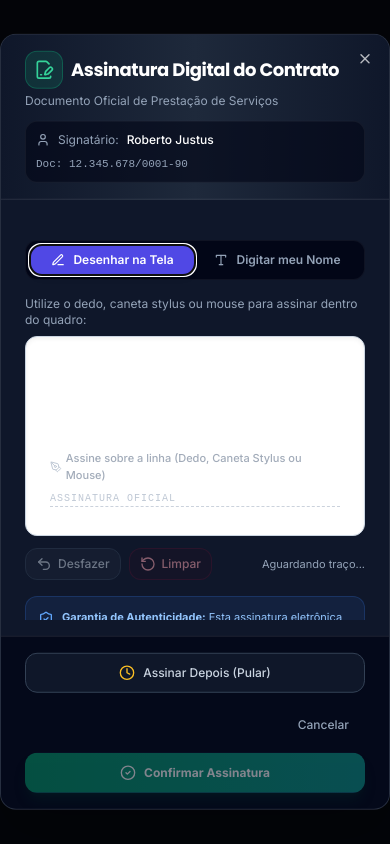
Test: GATE 2-D — Testes de Captura de Assinatura Digital › 3. SignatureCaptureModal (Modal e Regras de Negócio) › 3.2. Alterna entre abas "Desenhar na Tela" e "Digitar meu Nome"
Click the tab "Digitar meu Nome": (278, 260) [195, 245, 360, 275]
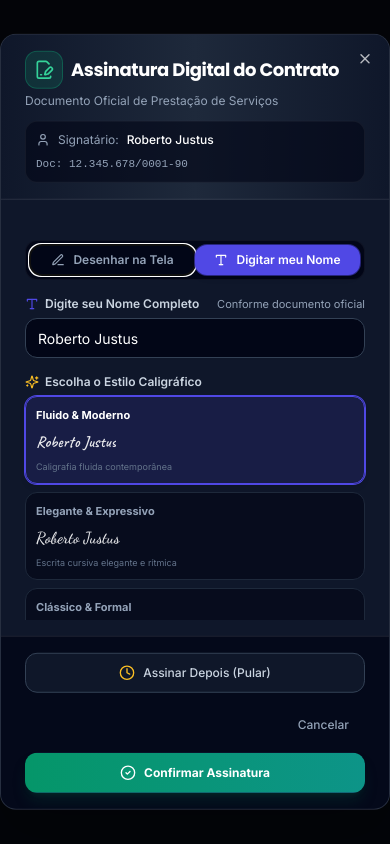
expect the field labelled "Digite seu Nome Completo Conforme documento oficial" is shown: met, box [25, 318, 365, 358]
